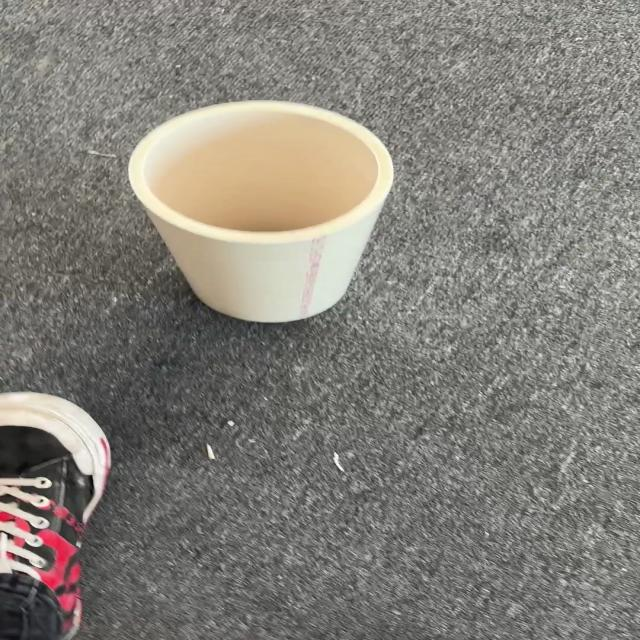Coral: (125, 99, 396, 324)
